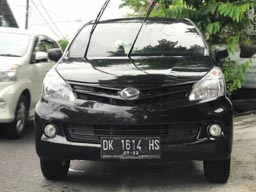plat: (100, 137, 161, 150)
